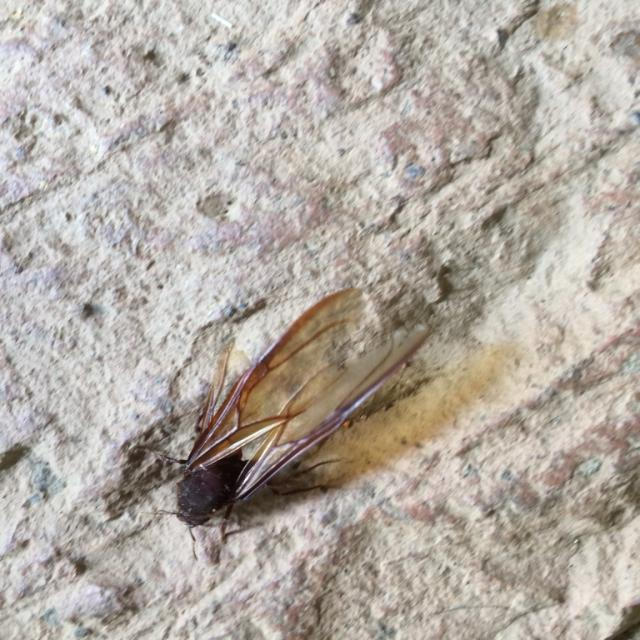Alive-Female-Alate: (122, 288, 430, 562)
